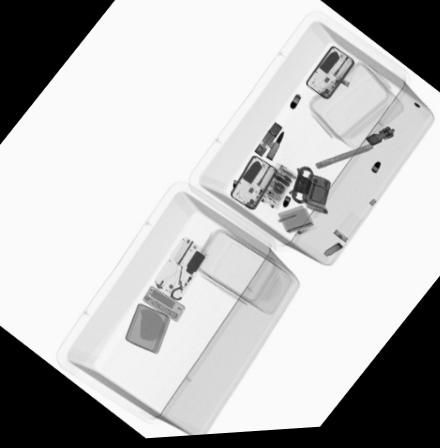Knife: (316, 147, 375, 174)
